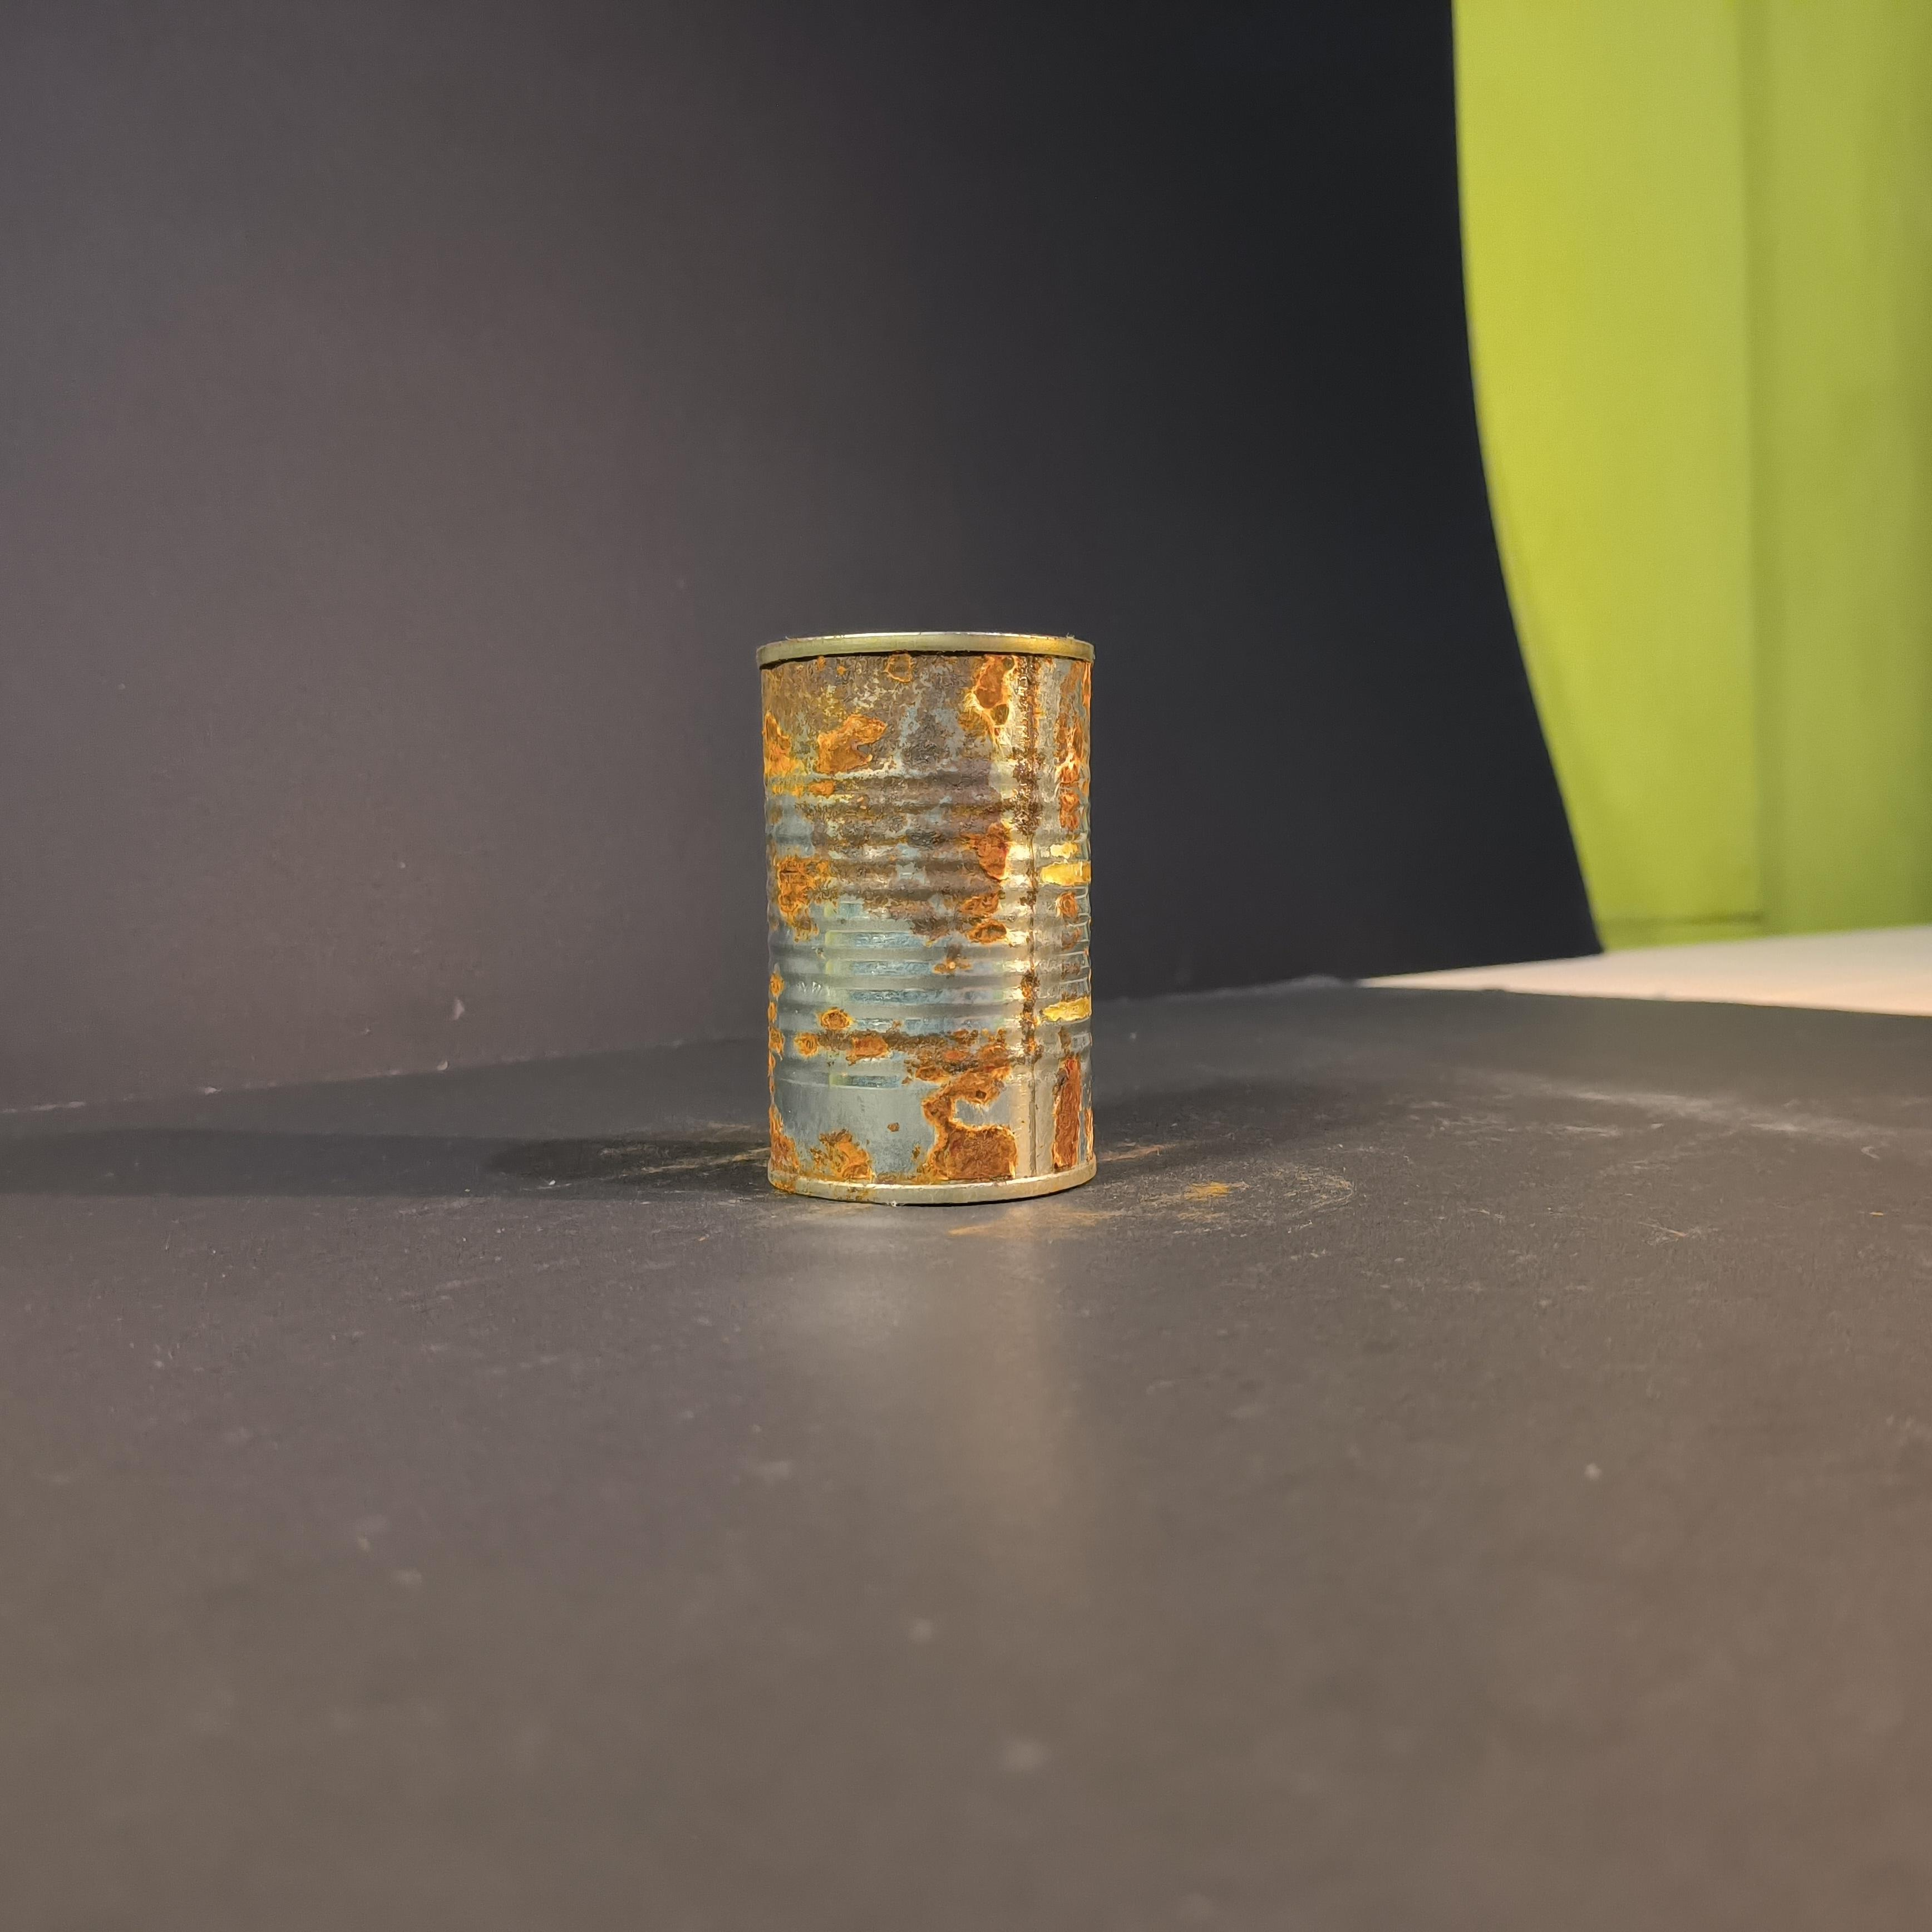Rusted: (740, 612, 1123, 1214)
